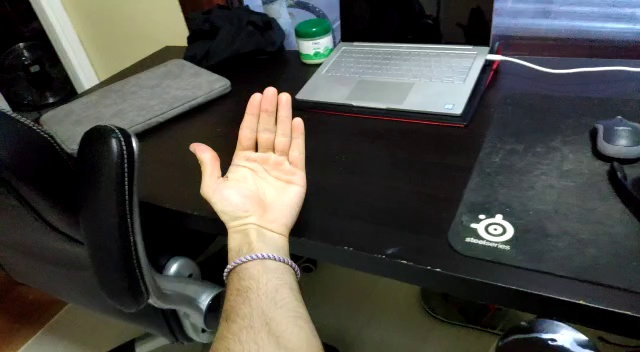Palm: (186, 82, 307, 240)
